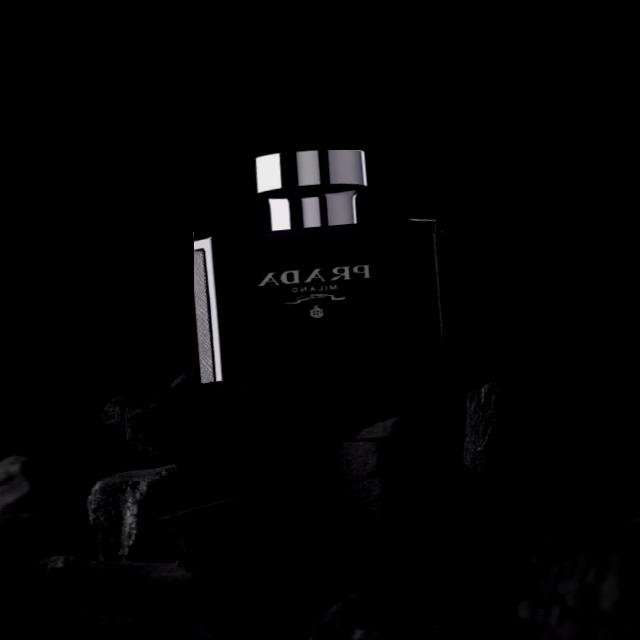Bottle: (194, 151, 440, 442)
